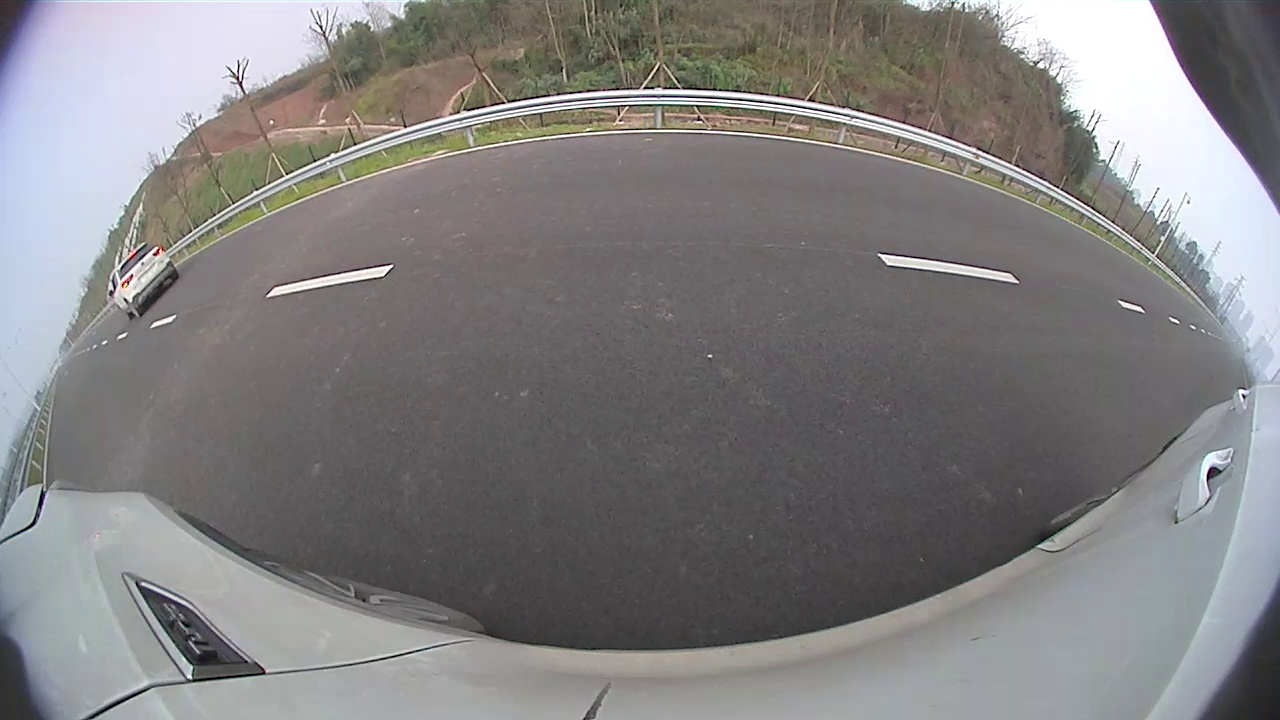car: (500, 152, 571, 202)
front: (563, 176, 570, 192)
rear: (547, 176, 556, 196)
